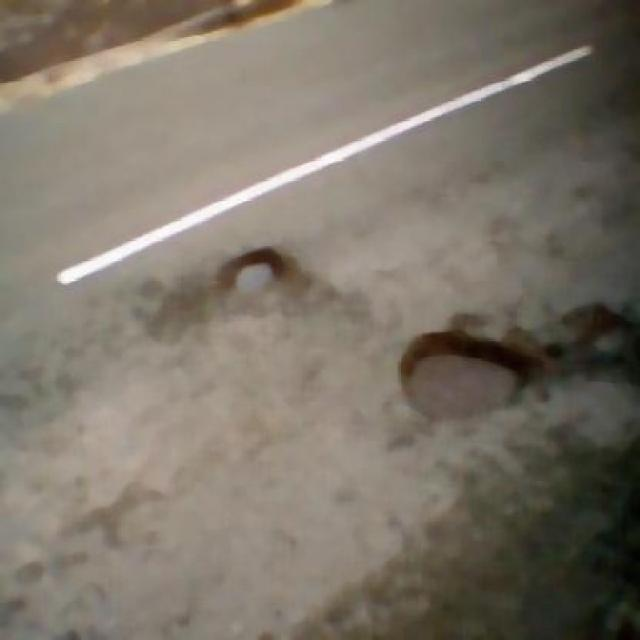Pothole: (401, 333, 533, 422), (560, 311, 638, 394), (227, 250, 284, 298)
